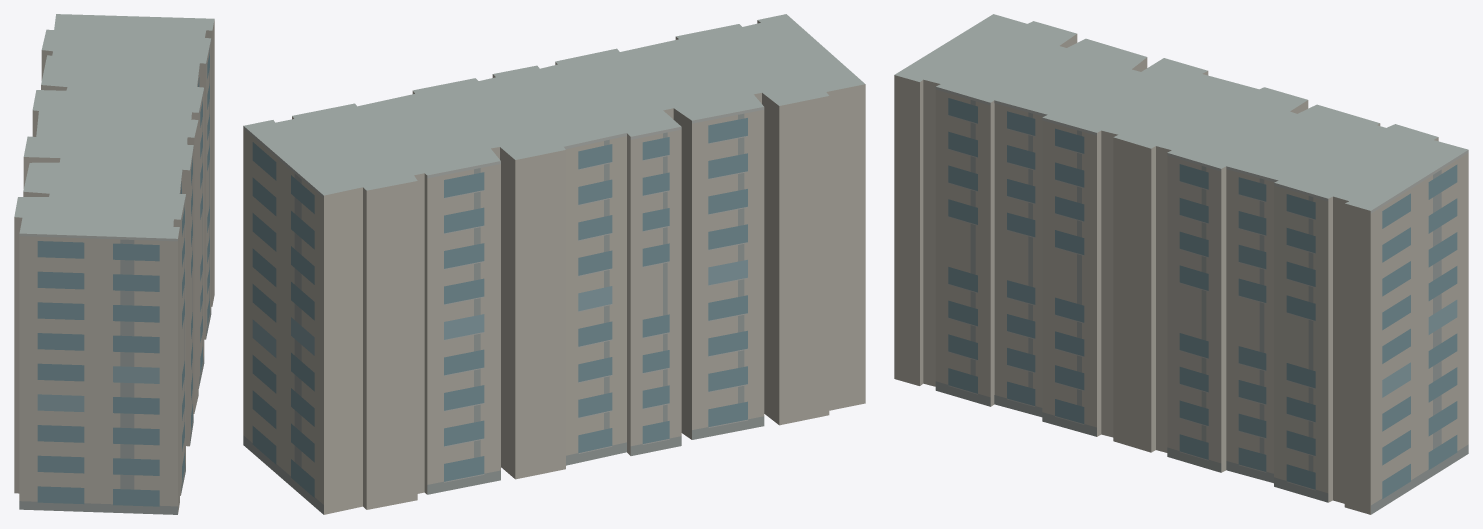
The model's file is residential-c7a96606-6e63-4284-b20e-13231350e573.glb.
3 renders of one model, left to right at view 1: azimuth 30°, elevation 25°; view 2: azimuth 150°, elevation 25°; view 3: azimuth 270°, elevation 25°, orthographic. The views are drawn at different scales.
Visible parts, largest first — view 1: residential-c7a96606-6e63-4284-b20e-13231350e573.tmp; view 2: residential-c7a96606-6e63-4284-b20e-13231350e573.tmp; view 3: residential-c7a96606-6e63-4284-b20e-13231350e573.tmp.
Boxes of the visible parts, bbox=[...] form: residential-c7a96606-6e63-4284-b20e-13231350e573.tmp: bbox=[14, 14, 214, 514]; residential-c7a96606-6e63-4284-b20e-13231350e573.tmp: bbox=[243, 14, 865, 514]; residential-c7a96606-6e63-4284-b20e-13231350e573.tmp: bbox=[894, 14, 1468, 514].
Bounding box in the file's own units: 36.13 × 26 × 44.54.
